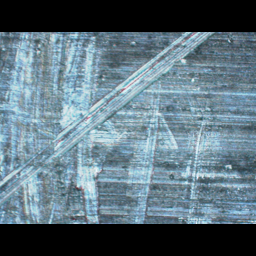d: (0, 31, 101, 223), (123, 91, 232, 222), (113, 31, 221, 103)
